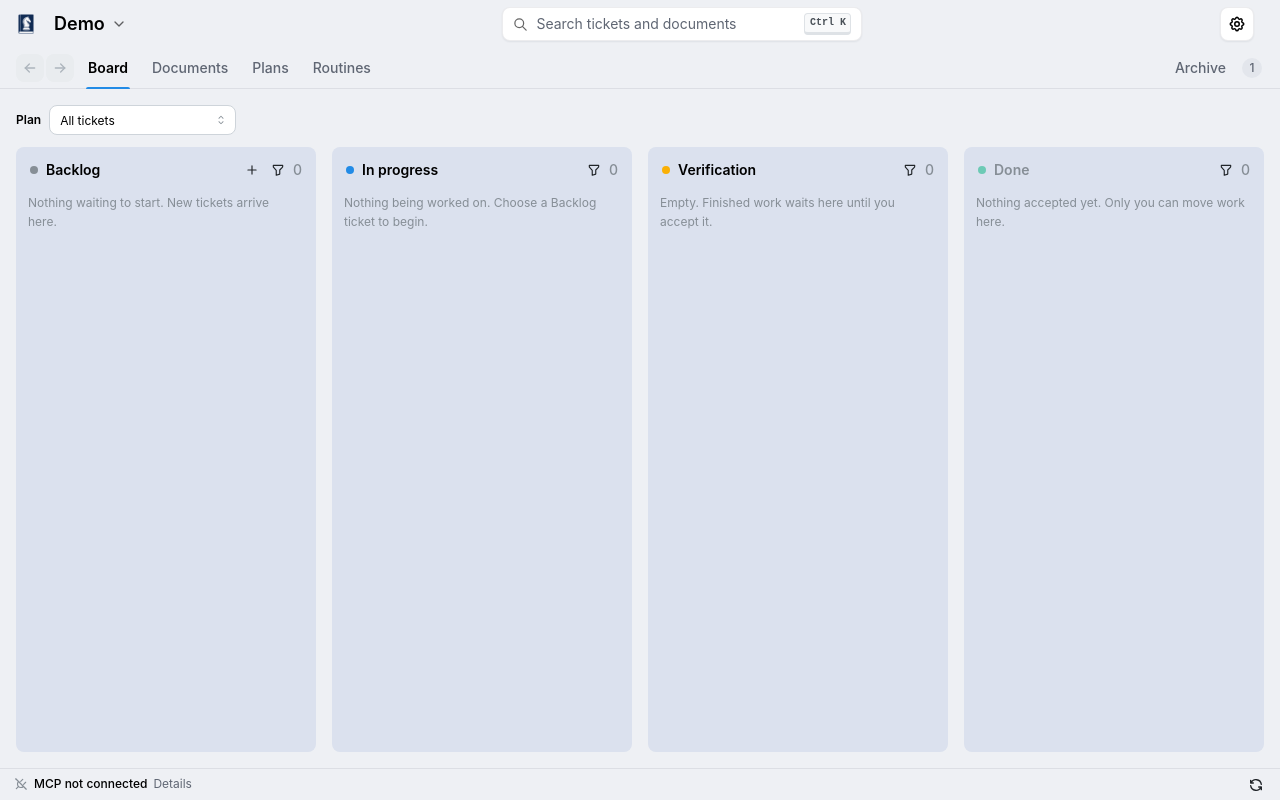
the Archive tab › opens the full ticket detail from an archived row
Check: the text "Demo" is shown, box [54, 12, 105, 36]
Click the tab "Archive 1" at (1218, 68), box [1173, 48, 1264, 88]
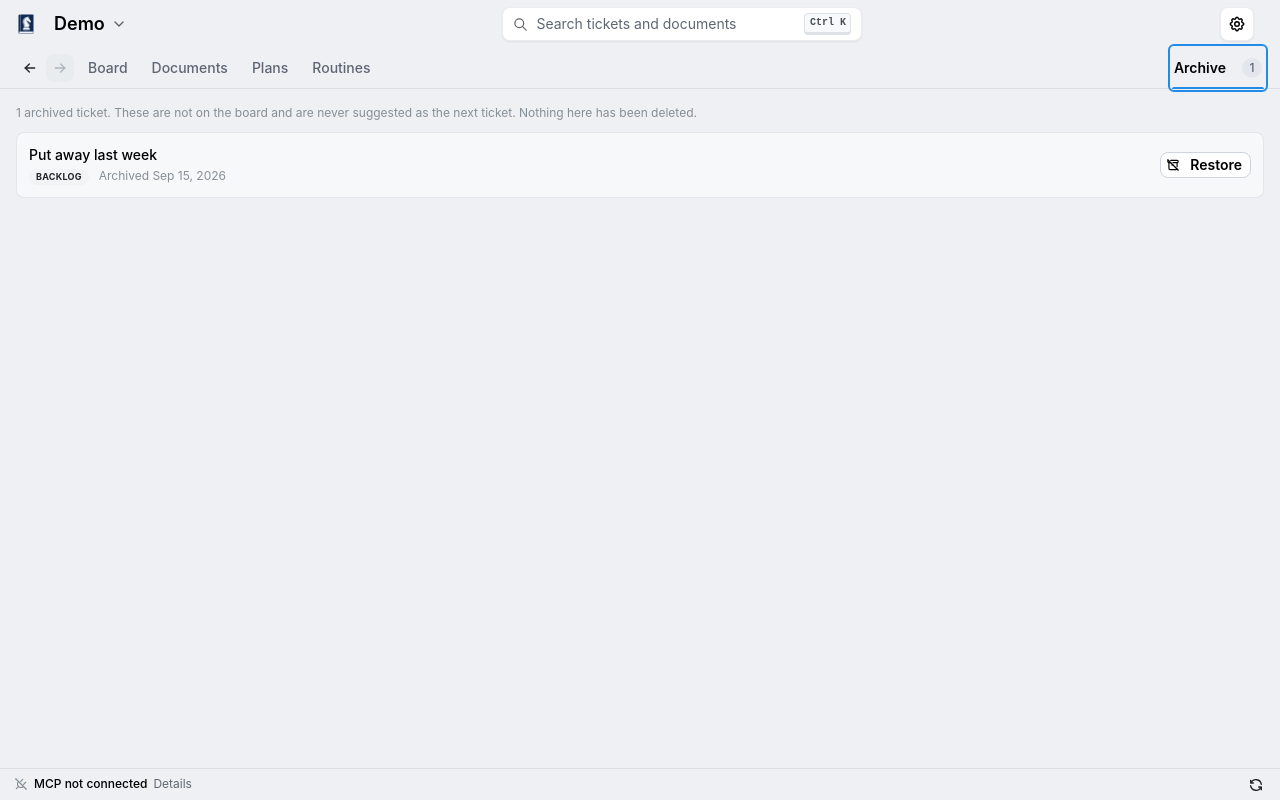
Click the text "Put away last week" at (93, 154), box [29, 146, 157, 163]
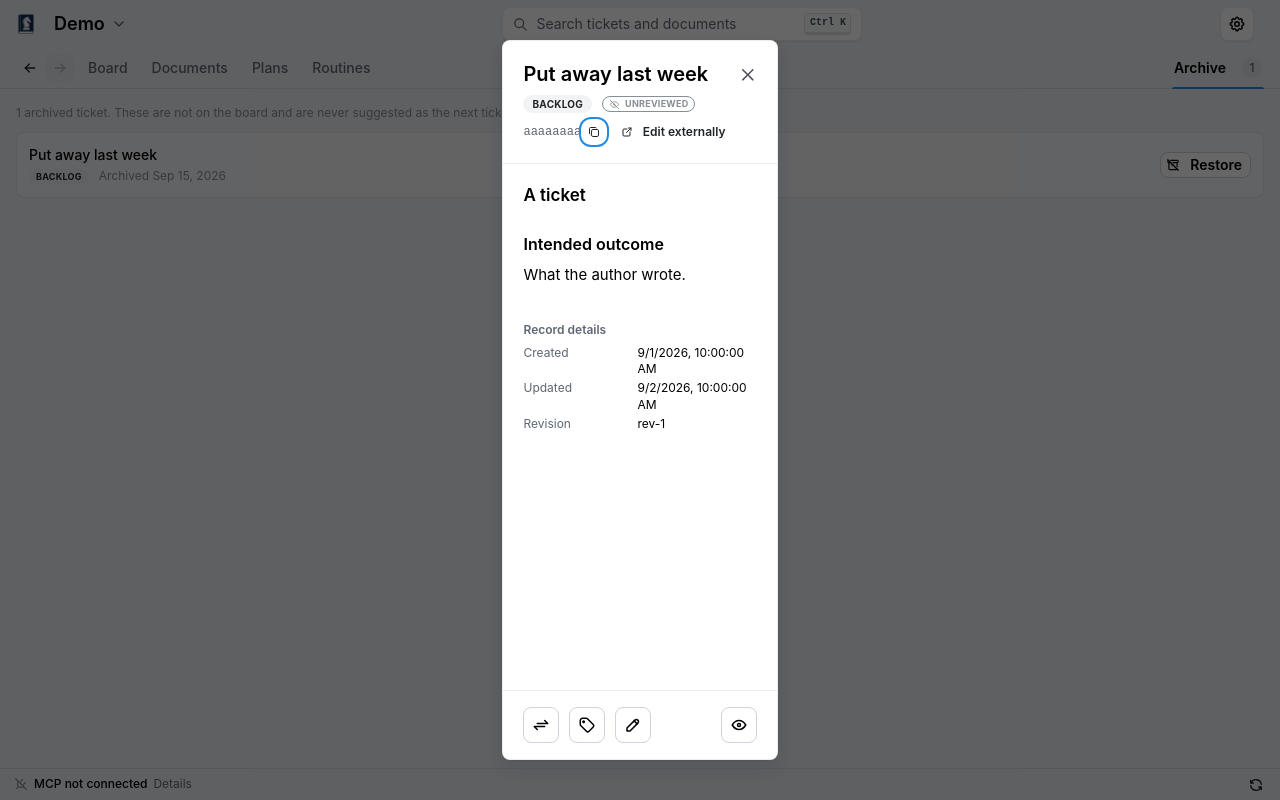
Check: the heading "Put away last week" is shown, box [524, 61, 734, 87]
